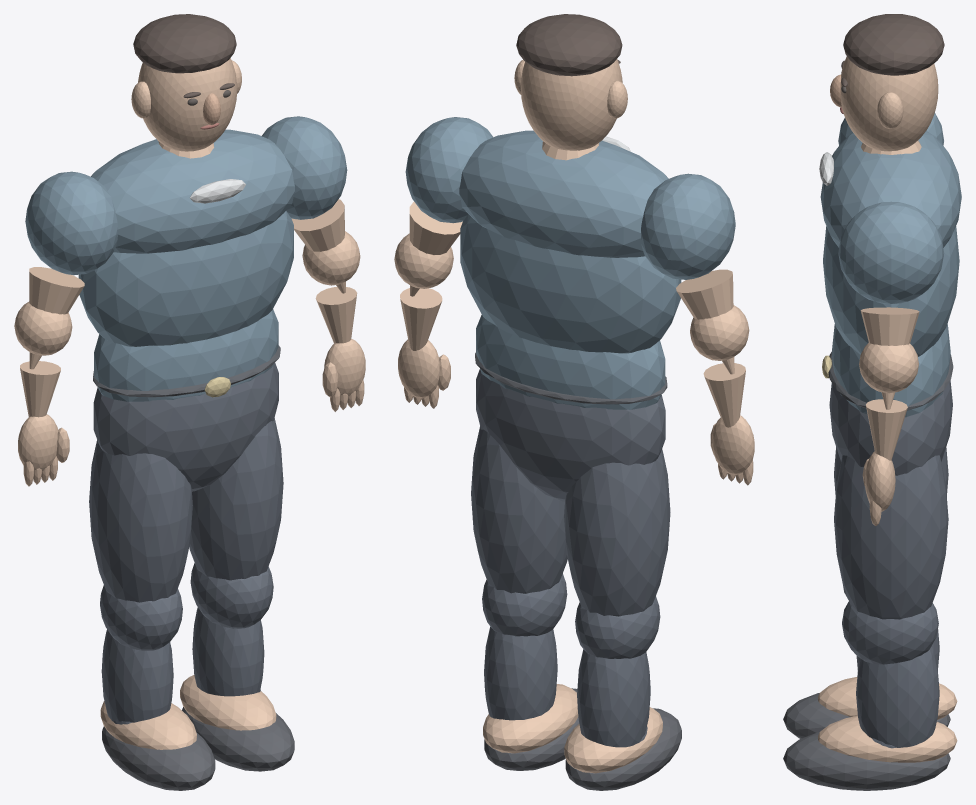
Rendered from body.glb.
The picture shows the model from 3 angles, left to right: view 1: azimuth 30°, elevation 25°; view 2: azimuth 150°, elevation 25°; view 3: azimuth 270°, elevation 25°; orthographic projection. The views are drawn at different scales.
Visible parts, largest first — view 1: shirt_torso__FR, thigh_L__FR, shirt_chest__FR, shirt_torso__FL, shirt_chest__FL, pelvis_pants__FR, thigh_R__FR, shirt_waist__FR, shoulder_L__FR, pelvis_pants__FL, head__FR, thigh_R__FL (+40 smaller); view 2: shirt_torso__BR, thigh_L__BR, shirt_chest__BR, shirt_chest__BL, shirt_torso__BL, pelvis_pants__BR, thigh_R__BR, shirt_waist__BR, shoulder_L__BR, pelvis_pants__BL, head__BR, calf_R__BR (+39 smaller); view 3: thigh_R__BL, thigh_R__FL, shirt_chest__BL, shoulder_R__BL, shoulder_R__FL, shirt_chest__FL, calf_R__BL, pelvis_pants__BL, shirt_torso__BL, calf_R__FL, head__FL, shoe_R__FL (+29 smaller).
Boxes of the visible parts, x1,y1,x2,y2 form: shirt_torso__FR: (83,245,219,346); thigh_L__FR: (97,452,174,602); shirt_chest__FR: (103,151,220,253); shirt_torso__FL: (201,211,293,339); shirt_chest__FL: (193,134,294,244); pelvis_pants__FR: (97,394,216,491); thigh_R__FR: (191,435,259,580); shirt_waist__FR: (97,339,215,401); shoulder_L__FR: (33,176,104,275); pelvis_pants__FL: (193,363,278,490); head__FR: (146,67,210,151); thigh_R__FL: (251,418,283,575); shirt_torso__BR: (536,249,676,353); thigh_L__BR: (582,461,661,616); shirt_chest__BR: (535,146,660,257); shirt_chest__BL: (459,134,563,248); shirt_torso__BL: (460,214,554,345); pelvis_pants__BR: (539,401,661,501); thigh_R__BR: (495,444,565,593); shirt_waist__BR: (541,345,661,409); shoulder_L__BR: (655,178,727,279); pelvis_pants__BL: (476,369,563,501); head__BR: (547,66,614,150); calf_R__BR: (495,633,550,720); thigh_R__BL: (882,455,948,619); thigh_R__FL: (834,455,891,619); shirt_chest__BL: (880,147,961,247); shoulder_R__BL: (883,205,943,303); shoulder_R__FL: (838,205,891,303); shirt_chest__FL: (820,147,890,247); calf_R__BL: (898,646,939,747); pelvis_pants__BL: (892,380,952,475); shirt_torso__BL: (891,226,959,356); calf_R__FL: (856,659,897,747); head__FL: (840,57,892,151); shoe_R__FL: (783,736,878,790).
Bounding box in the file's own units: 0.914 × 1.86 × 0.405.
